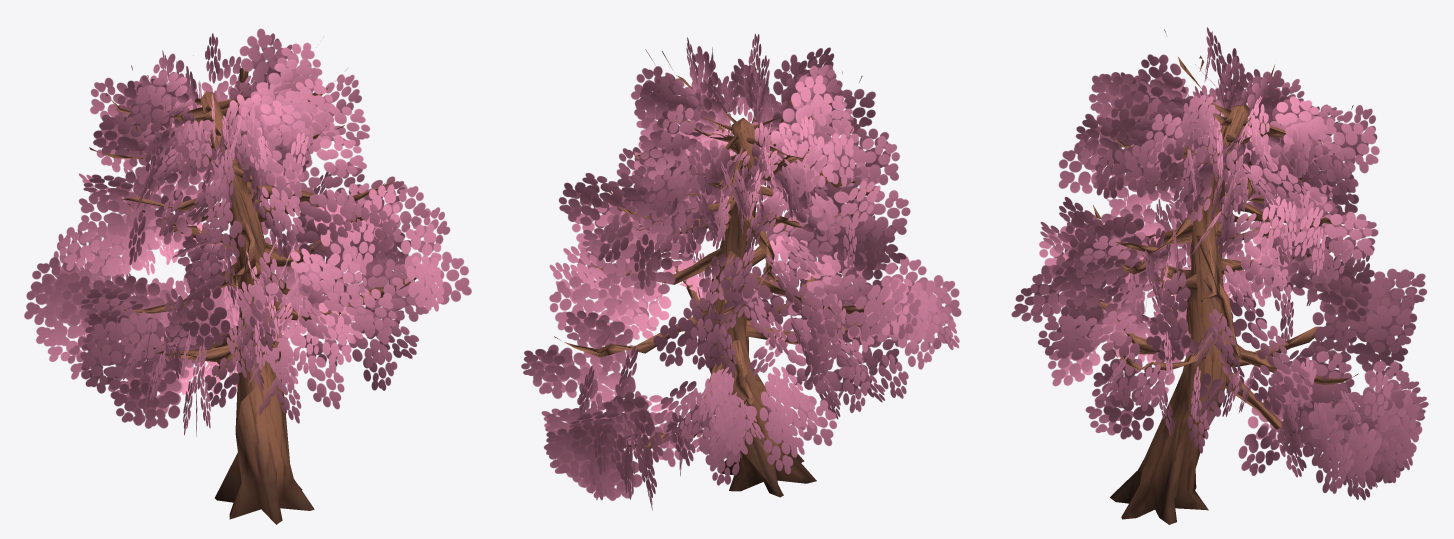
Rendered from tree-wedding-5-mature.glb.
3 renders of one model, left to right at view 1: azimuth 30°, elevation 25°; view 2: azimuth 150°, elevation 25°; view 3: azimuth 270°, elevation 25°, orthographic.
Parts seen in each view (by area): view 1: CherryBlossom_5; view 2: CherryBlossom_5; view 3: CherryBlossom_5.
Part boxes in pixels (box(x1,y1,x2,y2)): CherryBlossom_5: box(24, 28, 471, 524); CherryBlossom_5: box(521, 33, 961, 510); CherryBlossom_5: box(1011, 27, 1428, 524).
Size of the model in its own units: 6.27 by 6.75 by 5.96.
2 materials, 2 textured.
